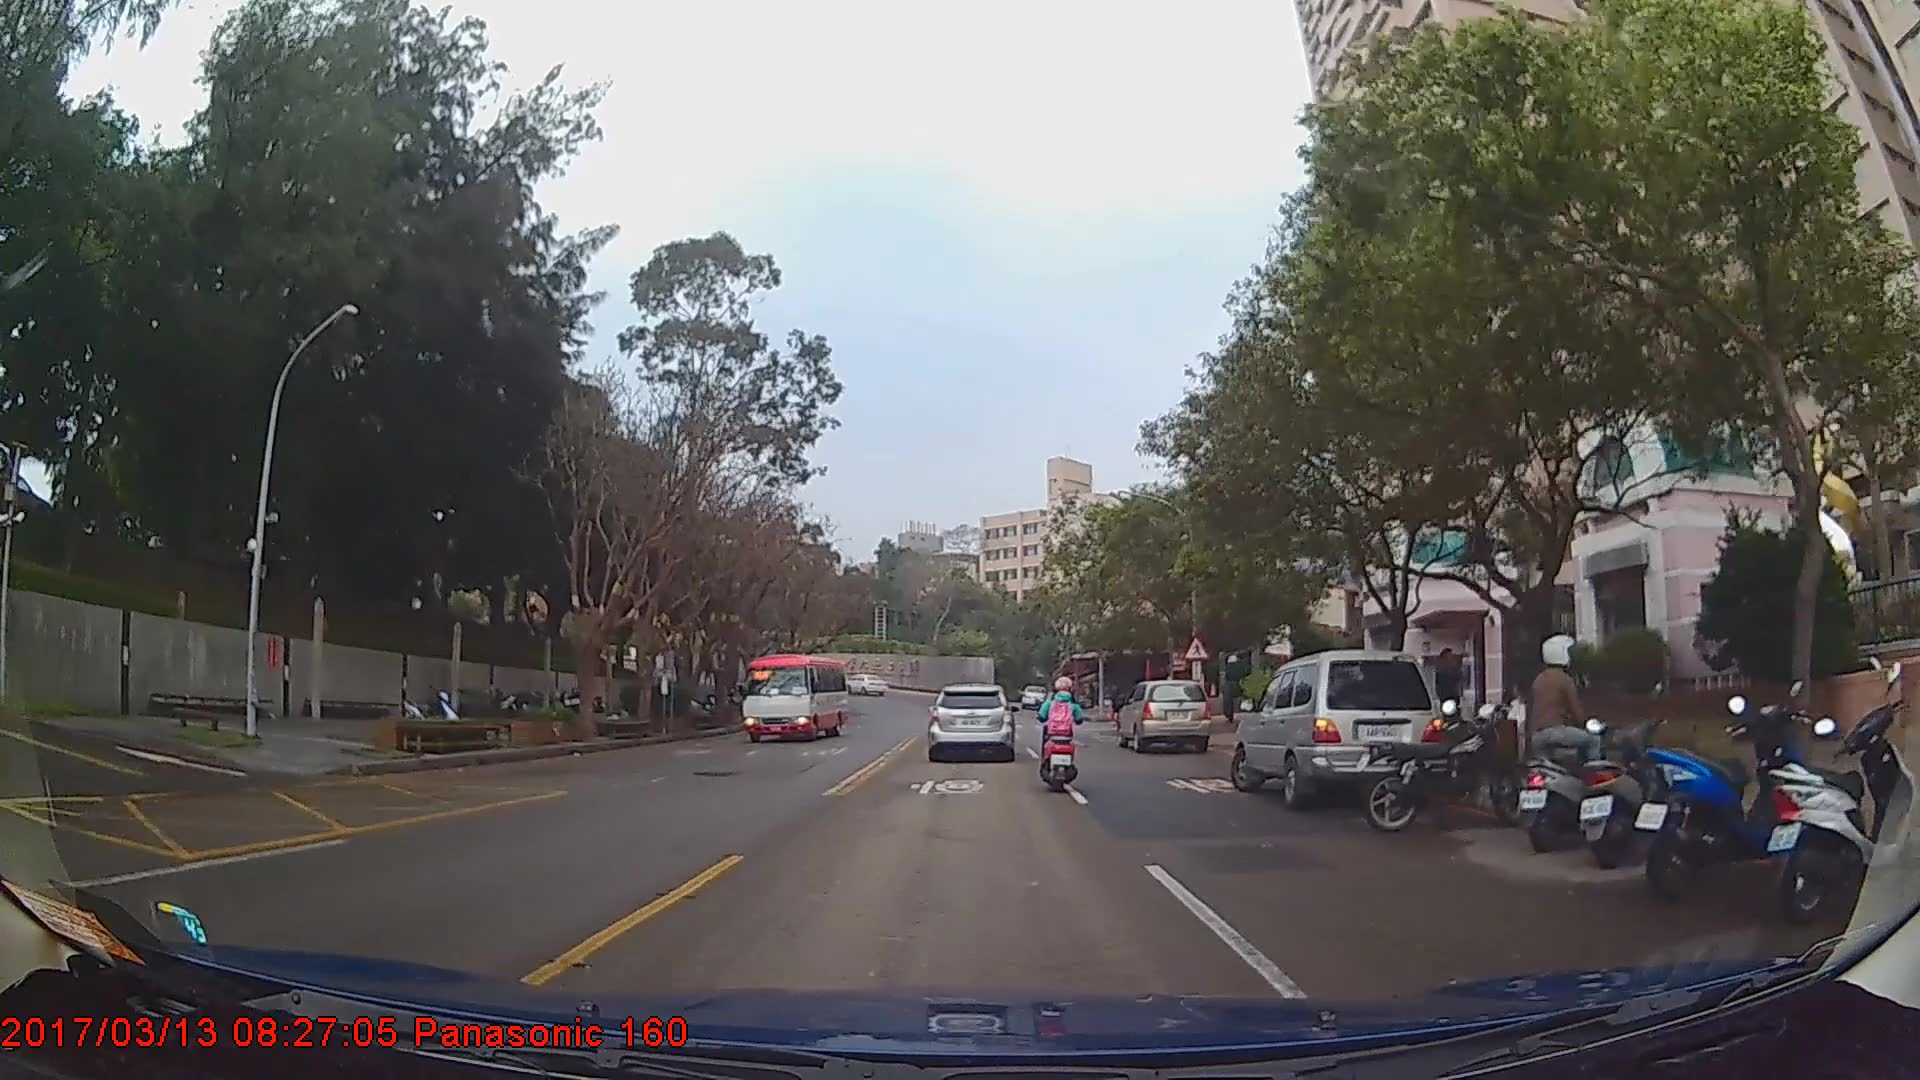pedestrian: (1434, 647, 1467, 736)
rider: (1034, 668, 1088, 798)
vehicle: (1233, 647, 1447, 807), (741, 655, 847, 742), (926, 681, 1016, 762), (1118, 679, 1211, 751), (841, 670, 885, 697)
